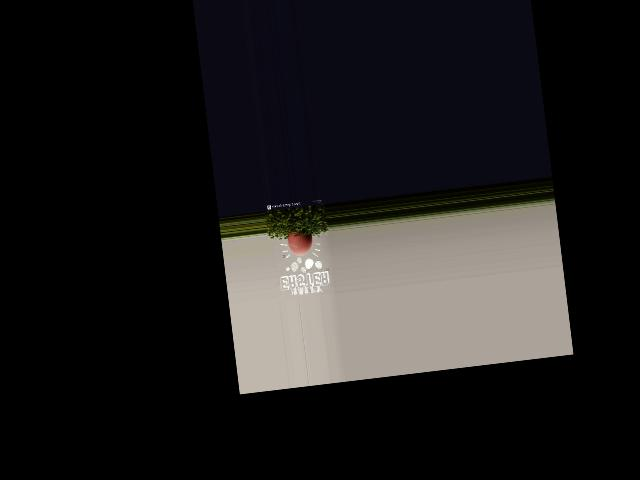egg: (287, 229, 314, 256)
